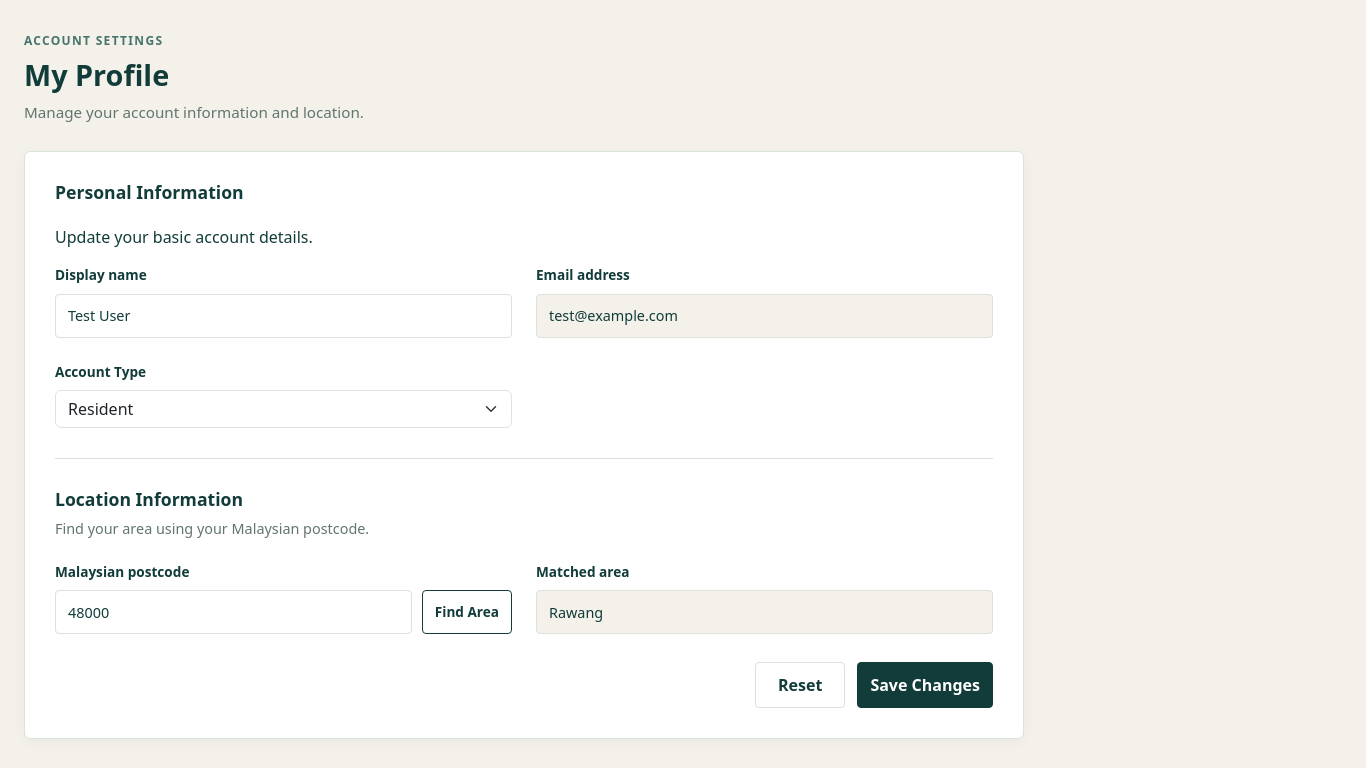
it: Profile › looks up the area using a valid postcode
Replace the text in the field labelled "Malaysian postcode" with "50000": [233, 612] box [55, 590, 412, 634]
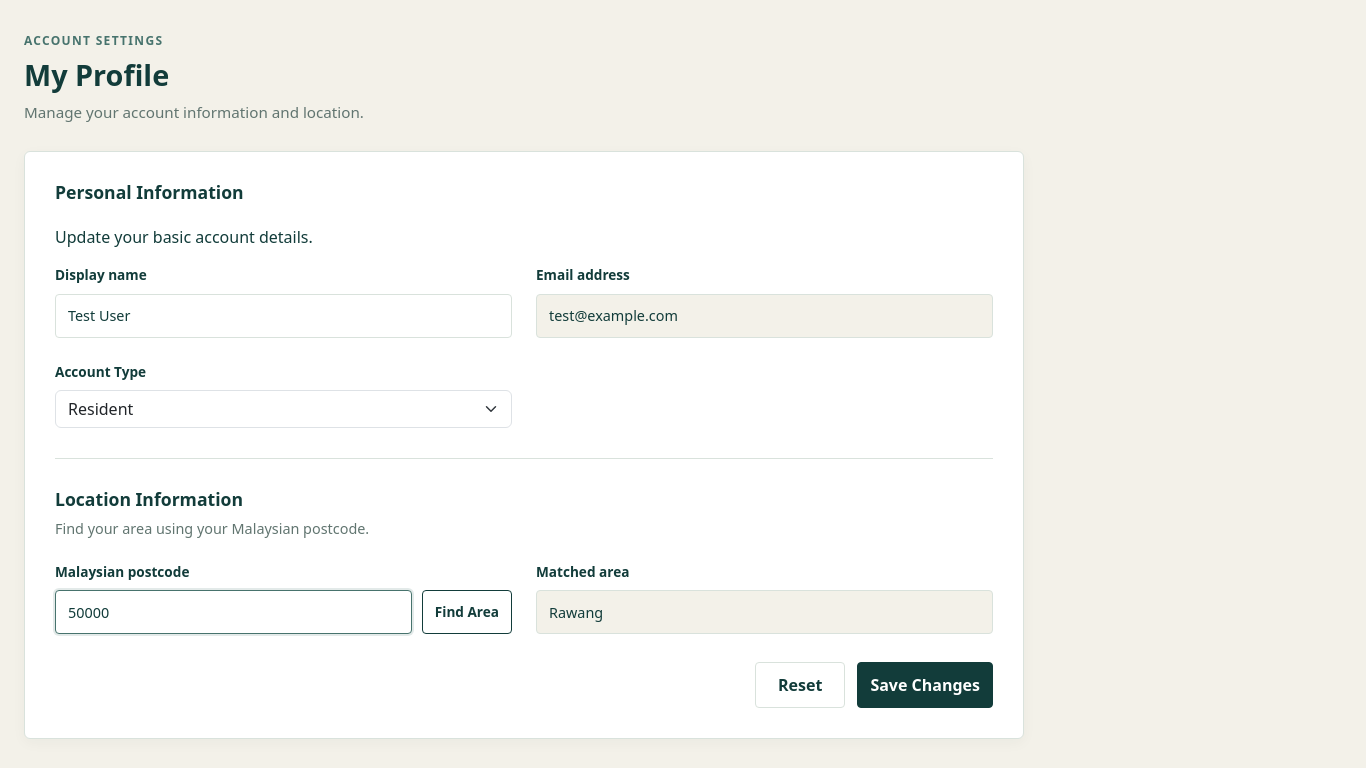
Click the button "Find Area": [467, 612] box [422, 590, 512, 634]
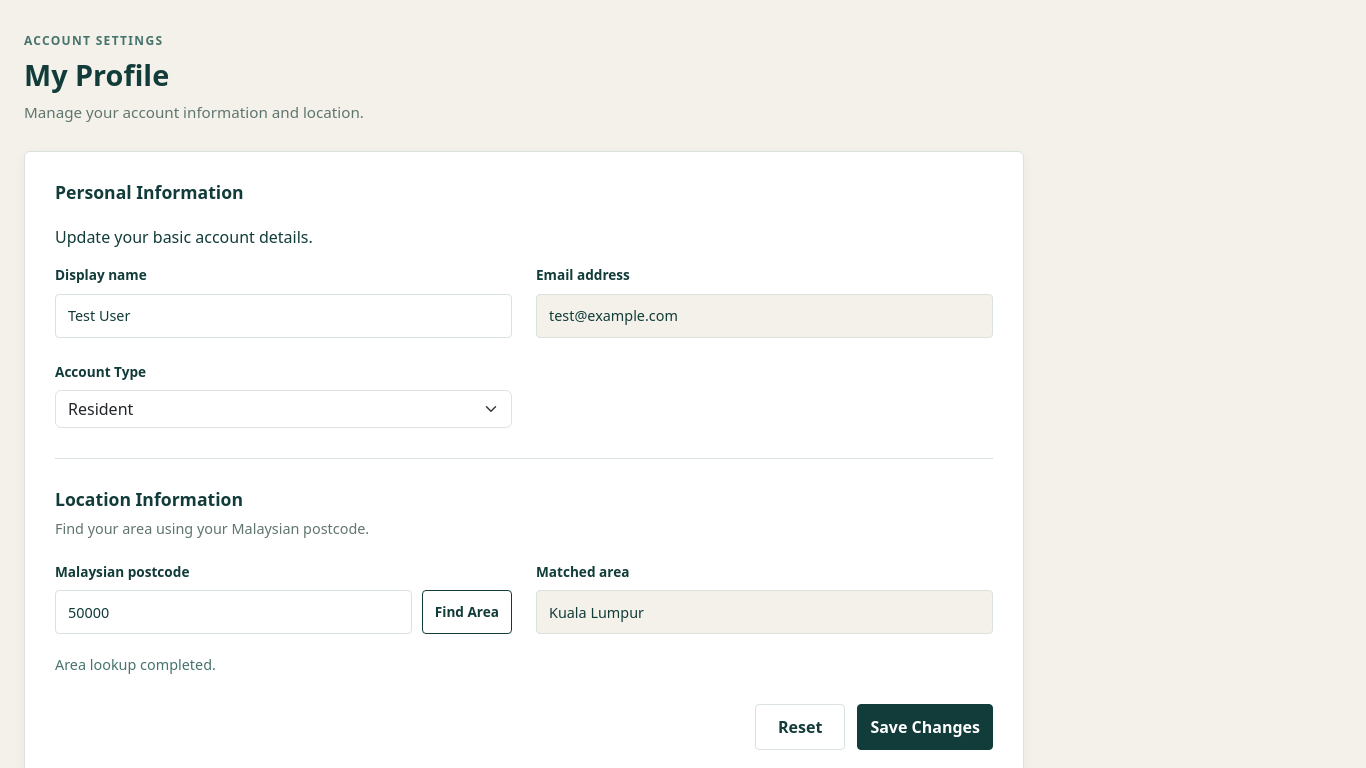
Expected: the field labelled "Matched area" holds "Kuala Lumpur", [536, 590, 993, 634]
